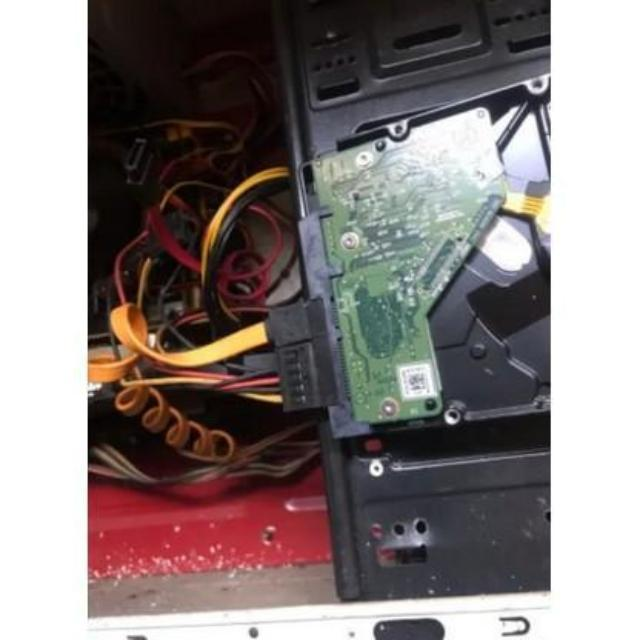DISK: (297, 70, 549, 448)
